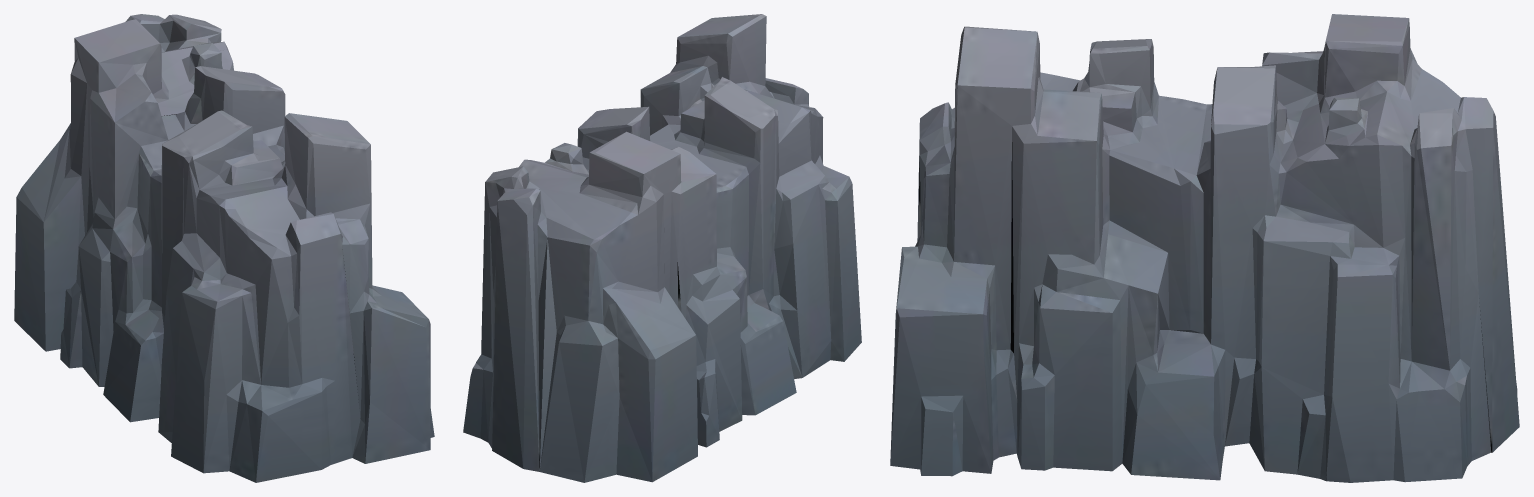
The model's file is cliff_tall.glb.
The picture shows the model from 3 angles, left to right: view 1: azimuth 30°, elevation 25°; view 2: azimuth 150°, elevation 25°; view 3: azimuth 270°, elevation 25°; orthographic projection. The views are drawn at different scales.
Visible parts, largest first — view 1: cliff_tall; view 2: cliff_tall; view 3: cliff_tall.
Boxes of the visible parts, left/top/right/bottom form: cliff_tall: left=14, top=14, right=434, bottom=482; cliff_tall: left=463, top=14, right=861, bottom=482; cliff_tall: left=890, top=14, right=1519, bottom=482.
Bounding box in the file's own units: 6.09 × 7.95 × 11.74.
Materials: 1 (1 with a texture image).
